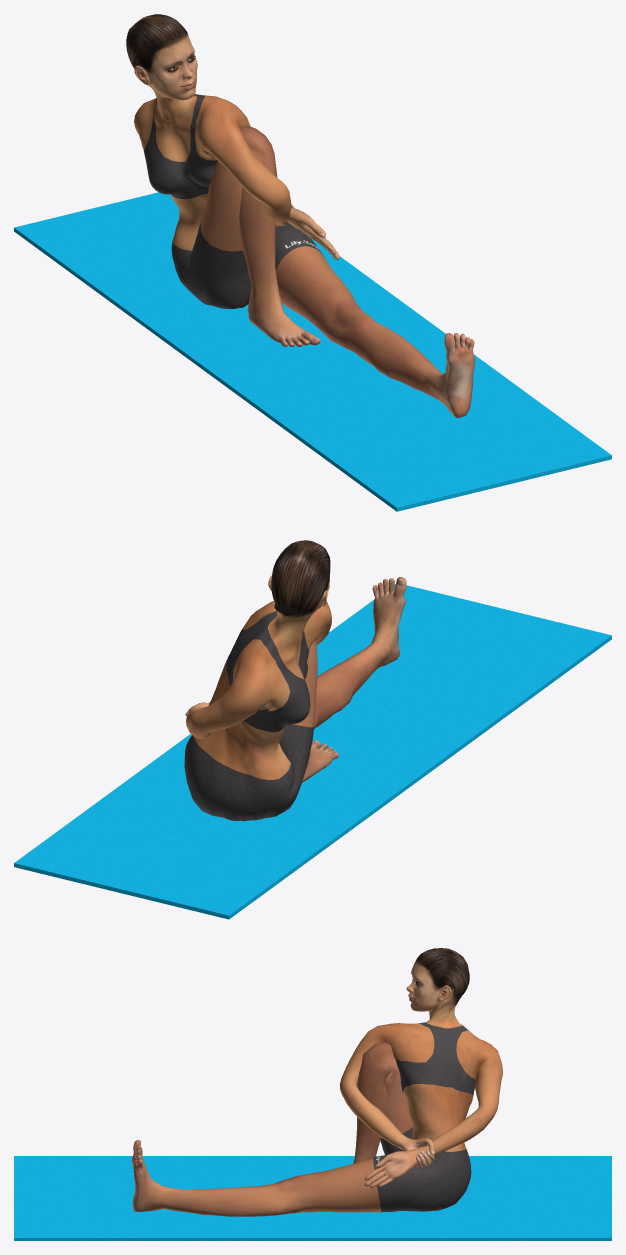
The model's file is marichyasana.glb.
3 renders of one model, top to bottom at view 1: azimuth 30°, elevation 25°; view 2: azimuth 150°, elevation 25°; view 3: azimuth 270°, elevation 25°, orthographic. The views are drawn at different scales.
Parts seen in each view (by area): view 1: mat_001-material, FemaleSkin-material; view 2: mat_001-material, FemaleSkin-material; view 3: mat_001-material, FemaleSkin-material.
Part boxes in pixels (box(x1,y1,x2,y2)): mat_001-material: box(14, 192, 611, 511); FemaleSkin-material: box(126, 14, 475, 417); mat_001-material: box(14, 584, 611, 919); FemaleSkin-material: box(184, 540, 406, 821); mat_001-material: box(14, 1156, 611, 1240); FemaleSkin-material: box(131, 948, 502, 1216).
Size of the model in its own units: 2 by 2.53 by 6.17.
Materials: 2 (2 with a texture image).
